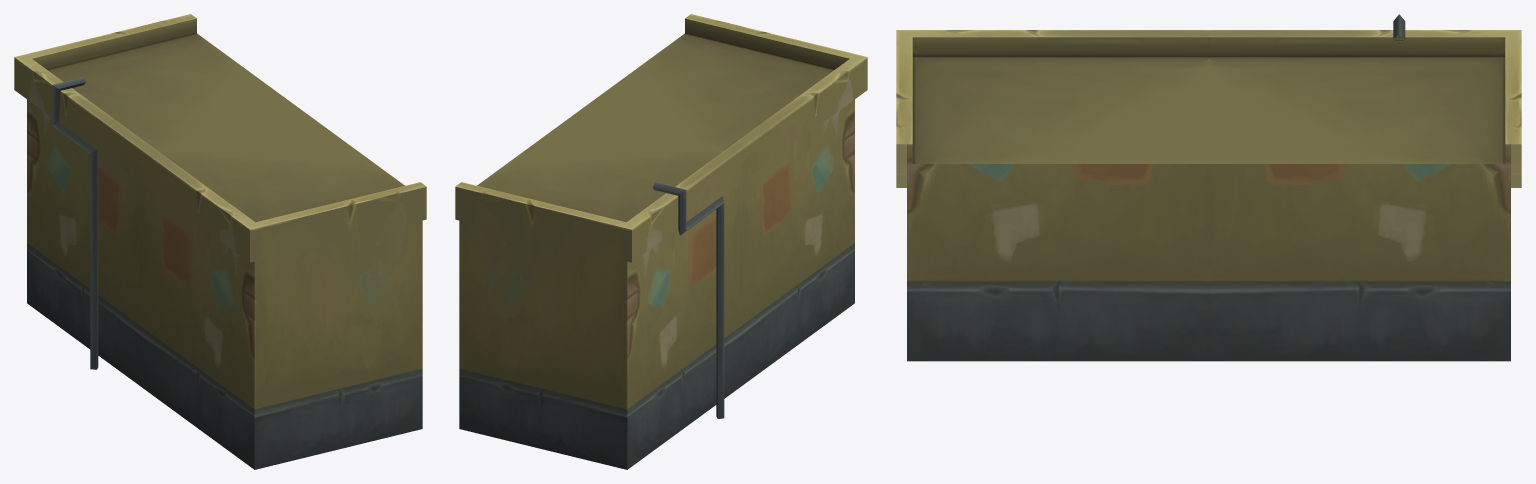
3 views of the same model, side by side, from view 1: azimuth 30°, elevation 25°; view 2: azimuth 150°, elevation 25°; view 3: azimuth 270°, elevation 25° (orthographic). The views are drawn at different scales.
Visible parts, largest first — view 1: wj_fz02; view 2: wj_fz02; view 3: wj_fz02.
Part boxes in pixels (box(x1,y1,x2,y2)): wj_fz02: box(14, 14, 426, 469); wj_fz02: box(455, 14, 867, 469); wj_fz02: box(896, 14, 1521, 361).
Size of the model in its own units: 599 by 1323 by 794.
